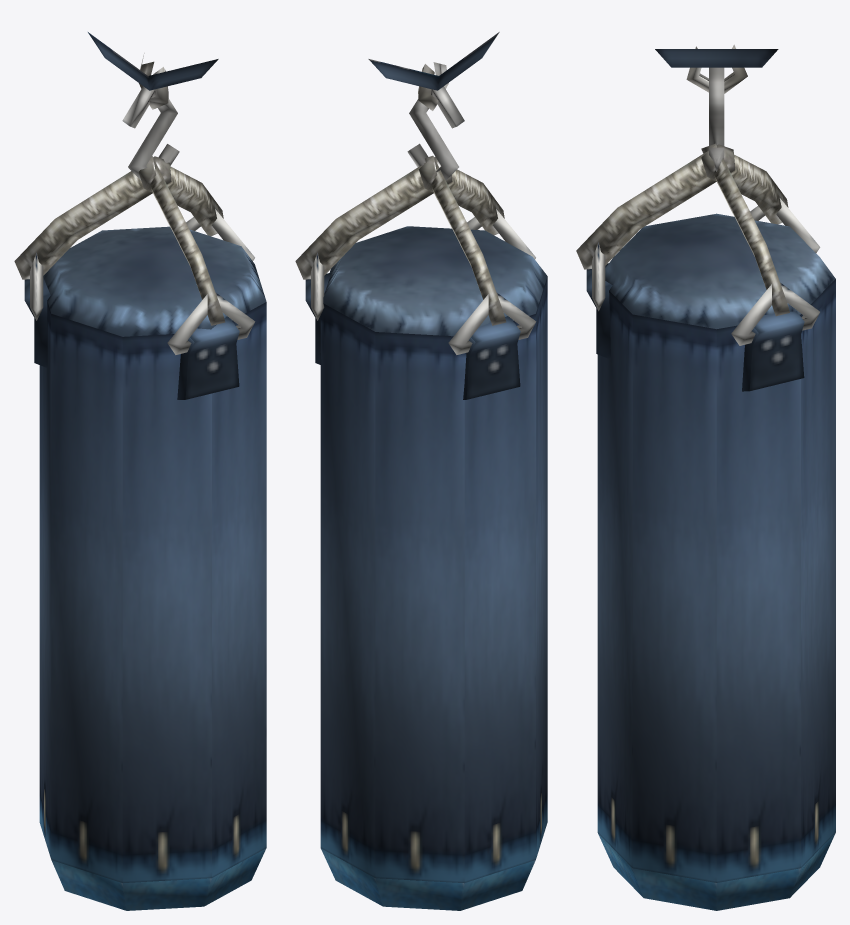
The model's file is a_SCtr04.glb.
3 renders of one model, left to right at view 1: azimuth 30°, elevation 25°; view 2: azimuth 150°, elevation 25°; view 3: azimuth 270°, elevation 25°, orthographic.
Parts seen in each view (by area): view 1: a_SCtr04; view 2: a_SCtr04; view 3: a_SCtr04.
Part boxes in pixels (x1,y1,x2,y2): a_SCtr04: [14, 32, 266, 910]; a_SCtr04: [295, 32, 547, 910]; a_SCtr04: [576, 44, 835, 910].
Size of the model in its own units: 0.549 by 2.01 by 0.5569.
Materials: 1 (1 with a texture image).
